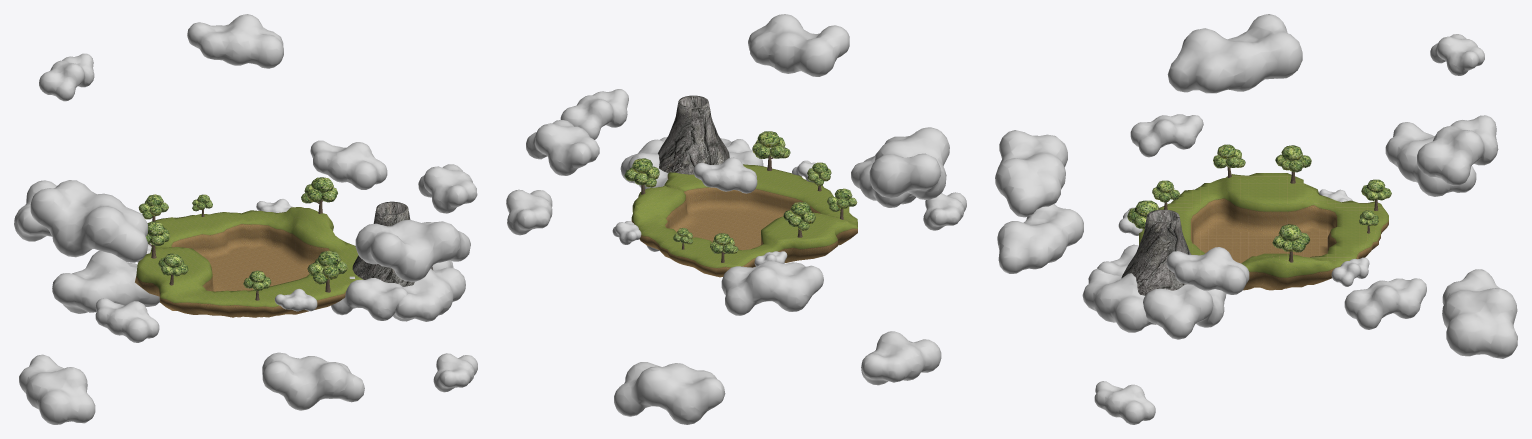
File: floating_island_map_with_volcano.glb
3 renders of one model, left to right at view 1: azimuth 30°, elevation 25°; view 2: azimuth 150°, elevation 25°; view 3: azimuth 270°, elevation 25°, orthographic. The views are drawn at different scales.
Visible parts, largest first — view 1: Grid, Mball.014, Mball.002, Mball.009, Mball.011, Mball.012, Mball.003, Mball.010, Mball.018, Mball.016, Mball.006, Mball.005 (+11 smaller); view 2: Grid, Mball.011, Mball.014, Mball.002, Mball.004, Cylinder, Mball.012, Mball.003, Mball.006, Mball.010, Mball.015, Mball.005 (+10 smaller); view 3: Grid, Mball.014, Mball.011, Mball.002, Mball.009, Mball.003, Cylinder, Mball.017, Mball.010, Mball.018, Mball.006, Mball.004 (+10 smaller).
Boxes of the visible parts, x1,y1,x2,y2 form: Grid: (135, 207, 363, 317); Mball.014: (30, 180, 147, 262); Mball.002: (355, 219, 470, 282); Mball.009: (262, 352, 364, 410); Mball.011: (52, 250, 159, 313); Mball.012: (19, 354, 95, 424); Mball.003: (187, 14, 283, 68); Mball.010: (310, 140, 387, 189); Mball.018: (393, 267, 465, 321); Mball.016: (331, 276, 407, 320); Mball.006: (418, 164, 477, 213); Mball.005: (95, 298, 159, 342); Grid: (631, 164, 857, 277); Mball.011: (614, 362, 725, 424); Mball.014: (869, 127, 949, 199); Mball.002: (748, 14, 849, 76); Mball.004: (721, 260, 823, 315); Cylinder: (658, 95, 729, 174); Mball.012: (861, 331, 941, 385); Mball.003: (526, 120, 599, 175); Mball.006: (560, 89, 628, 139); Mball.010: (506, 189, 552, 235); Mball.015: (693, 157, 757, 193); Mball.005: (923, 192, 966, 230); Grid: (1139, 173, 1388, 290); Mball.014: (1167, 14, 1302, 93); Mball.011: (1442, 269, 1517, 358); Mball.002: (995, 130, 1067, 217); Mball.009: (997, 204, 1083, 273); Mball.003: (1417, 115, 1498, 185); Cylinder: (1121, 209, 1191, 295); Mball.017: (1143, 284, 1226, 339); Mball.010: (1344, 278, 1426, 329); Mball.018: (1082, 268, 1155, 332); Mball.006: (1166, 247, 1249, 294); Mball.004: (1385, 122, 1476, 196).
Bounding box in the file's own units: 61.59 × 38.72 × 65.87.
Materials: 6 (5 with a texture image).
